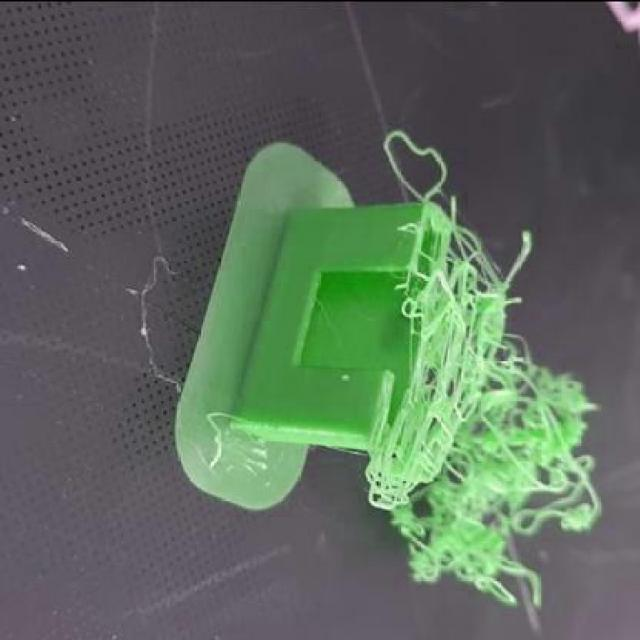spaghetti: (366, 129, 602, 608)
